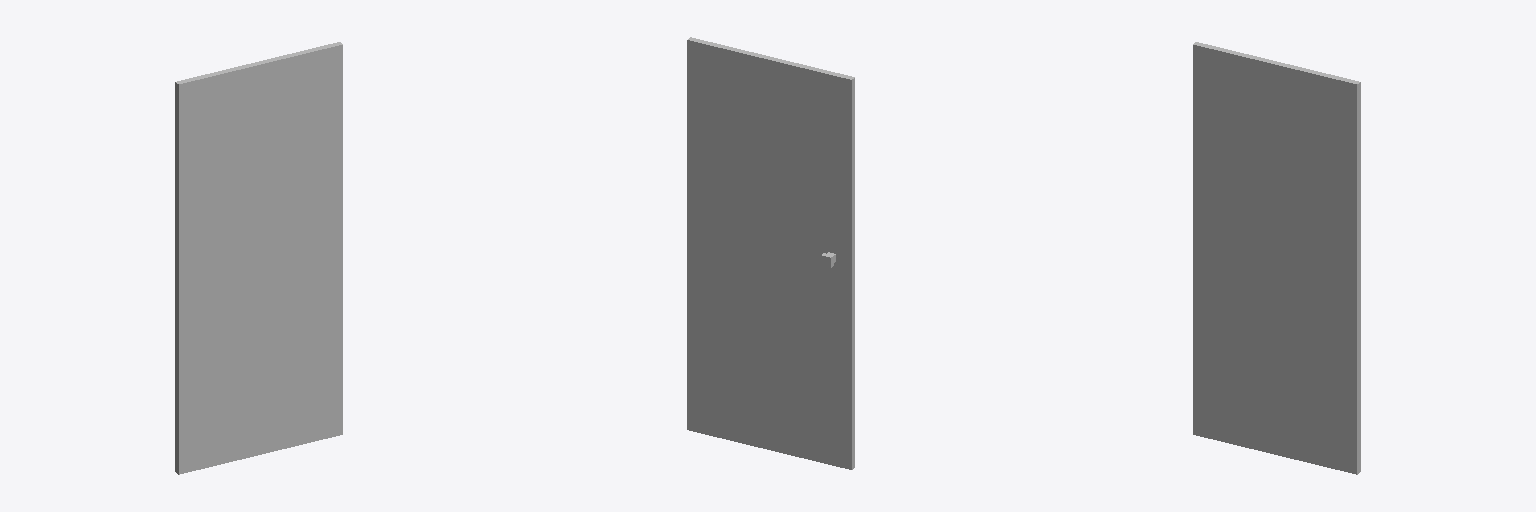
Rendered from Closet Door Left.obj.
The picture shows the model from 3 angles: view 1: azimuth 30°, elevation 25°; view 2: azimuth 150°, elevation 25°; view 3: azimuth 330°, elevation 25°; orthographic projection.
Visible parts, largest first — view 1: Closet_Door_Left; view 2: Closet_Door_Left; view 3: Closet_Door_Left.
Part boxes in pixels (bbox=[...]): Closet_Door_Left: bbox=[175, 42, 342, 474]; Closet_Door_Left: bbox=[687, 37, 854, 469]; Closet_Door_Left: bbox=[1193, 42, 1360, 474].
Size of the model in its own units: 0.9409 by 2.13 by 0.0983.